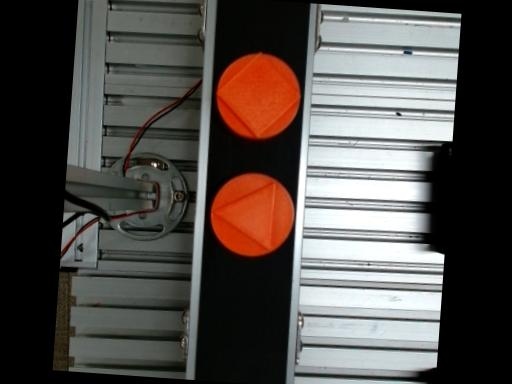Not_Square: (212, 181, 275, 251)
Orange_Waper: (215, 53, 299, 139), (210, 173, 291, 256)
Square: (215, 53, 299, 137)
